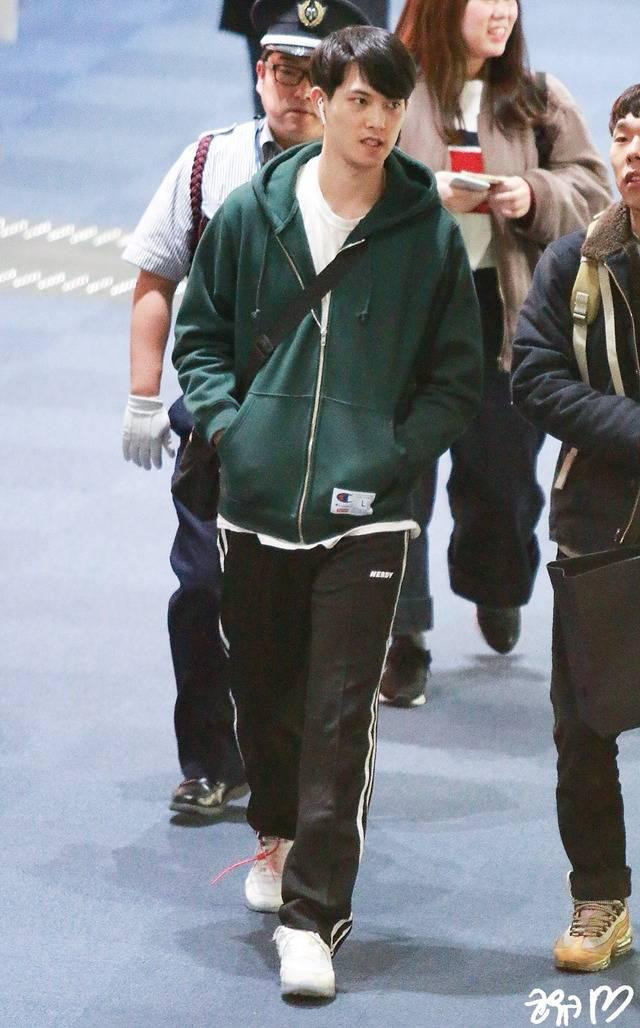earphone: (307, 93, 331, 128)
